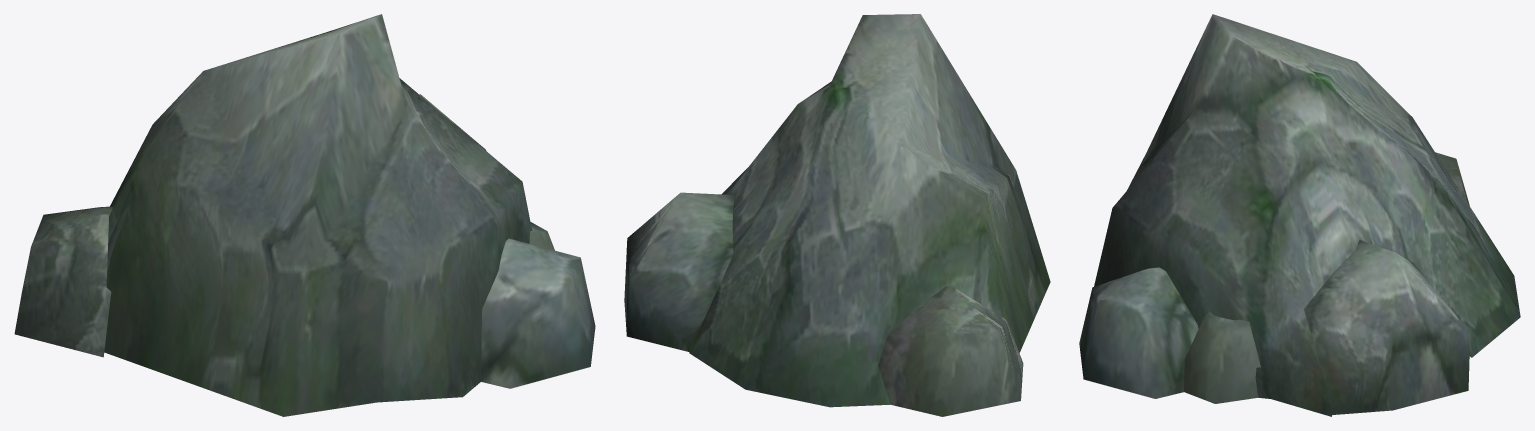
Rendered from SC001Jshanshi_05.FBX.
The picture shows the model from 3 angles, left to right: view 1: azimuth 30°, elevation 25°; view 2: azimuth 150°, elevation 25°; view 3: azimuth 270°, elevation 25°; orthographic projection. The views are drawn at different scales.
Parts seen in each view (by area): view 1: SC001Jshanshi_05; view 2: SC001Jshanshi_05; view 3: SC001Jshanshi_05.
Boxes of the visible parts, x1,y1,x2,y2 form: SC001Jshanshi_05: (14,14,595,416); SC001Jshanshi_05: (624,14,1050,416); SC001Jshanshi_05: (1079,14,1520,416).
Size of the model in its own units: 4.76 by 3.03 by 4.2.
